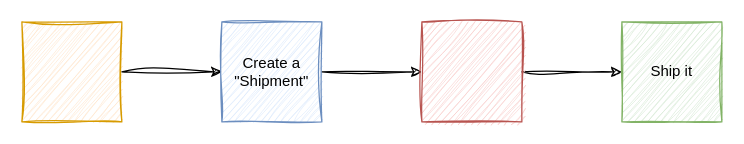
The diagram is 744 pixels wide and 144 high, and some of its shapes have lost their labels. The box of each missing label's shape, as (x1, y1, x2, y2) in pixels:
Add sample(s) to ERA: (21, 21, 122, 122)
Add samples to Shipment: (421, 21, 522, 122)
